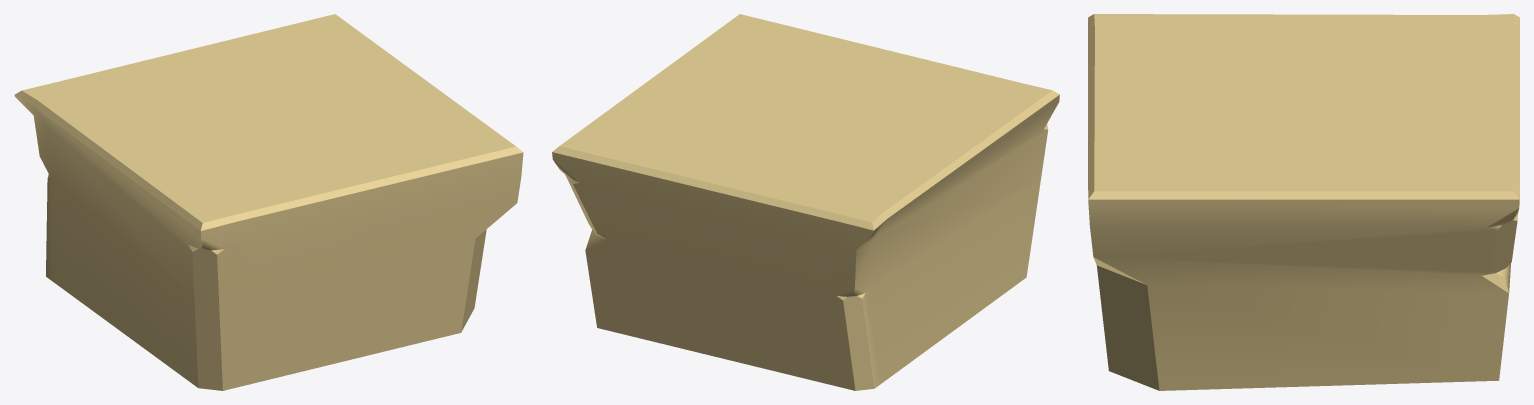
Rendered from Carved_Stones_2.fbx.
3 views of the same model, side by side, from view 1: azimuth 30°, elevation 25°; view 2: azimuth 150°, elevation 25°; view 3: azimuth 270°, elevation 25° (orthographic). The views are drawn at different scales.
Parts seen in each view (by area): view 1: MESH_Carved_Stones_2; view 2: MESH_Carved_Stones_2; view 3: MESH_Carved_Stones_2.
Boxes of the visible parts, x1,y1,x2,y2 form: MESH_Carved_Stones_2: [14, 14, 523, 390]; MESH_Carved_Stones_2: [552, 14, 1059, 390]; MESH_Carved_Stones_2: [1088, 14, 1519, 390].
Bounding box in the file's own units: 10.87 × 5.76 × 10.87.
